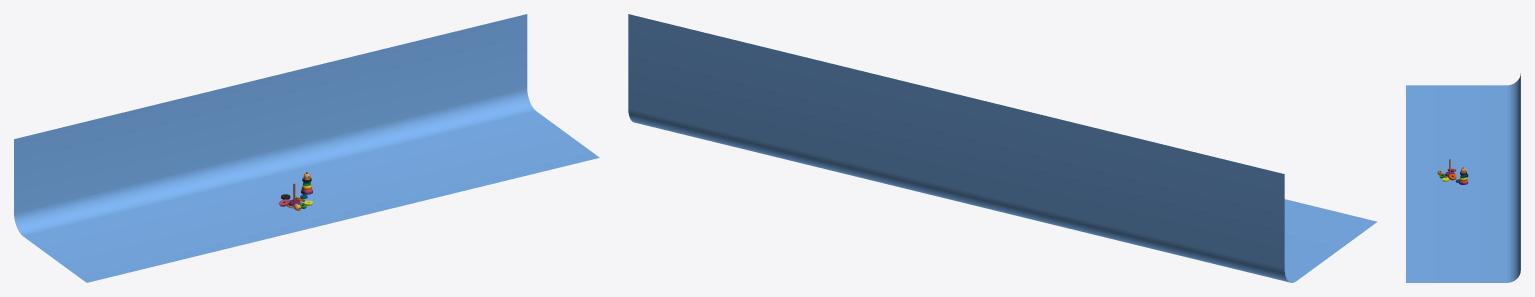
File: Toy.fbx
3 renders of one model, left to right at view 1: azimuth 30°, elevation 25°; view 2: azimuth 150°, elevation 25°; view 3: azimuth 270°, elevation 25°, orthographic. The views are drawn at different scales.
Visible parts, largest first — view 1: Plane; view 2: Plane; view 3: Plane.
Boxes of the visible parts, <box> form: Plane: <box>14,14,599,282</box>; Plane: <box>628,14,1377,282</box>; Plane: <box>1406,73,1520,282</box>.
Bounding box in the file's own units: 7543 × 1276 × 1853.
